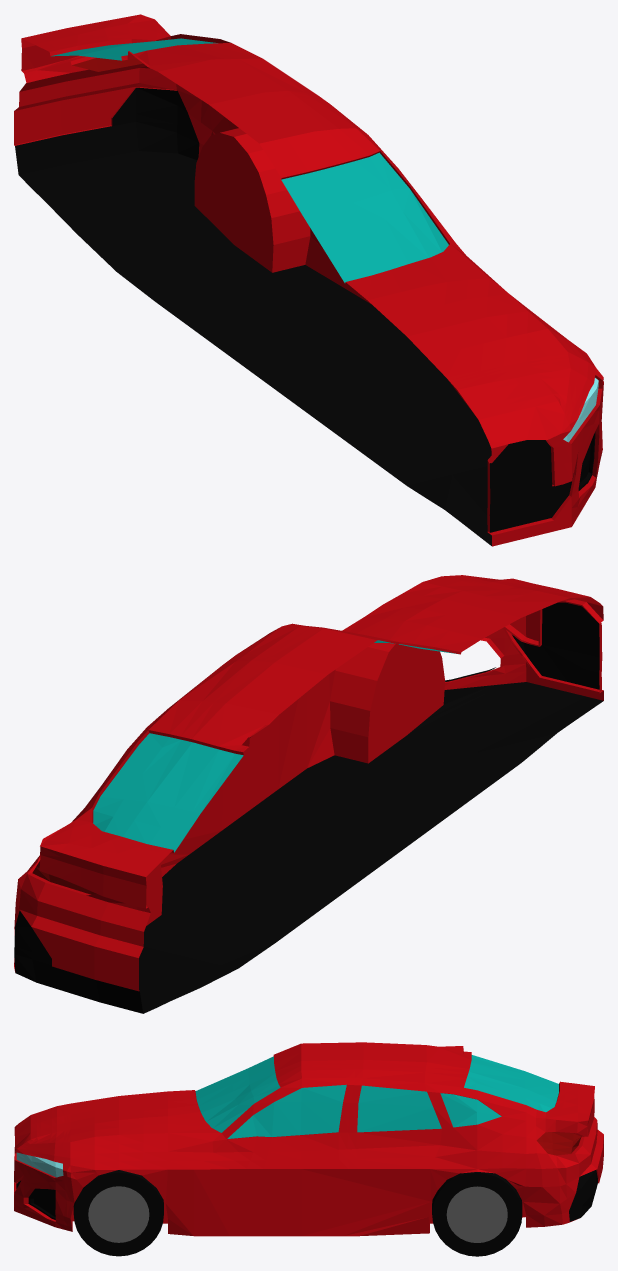
File: car.dae
3 renders of one model, top to bottom at view 1: azimuth 30°, elevation 25°; view 2: azimuth 150°, elevation 25°; view 3: azimuth 270°, elevation 25°, orthographic. The views are drawn at different scales.
Visible parts, largest first — view 1: chassis; view 2: chassis; view 3: chassis, back_wheels, front_wheels.
Part boxes in pixels (box(x1,y1,x2,y2)): chassis: box(14, 14, 603, 546); chassis: box(14, 575, 603, 1013); chassis: box(14, 1042, 603, 1236); back_wheels: box(432, 1172, 522, 1256); front_wheels: box(73, 1170, 163, 1256).
Size of the model in its own units: 0.921 by 4.69 by 1.46.
